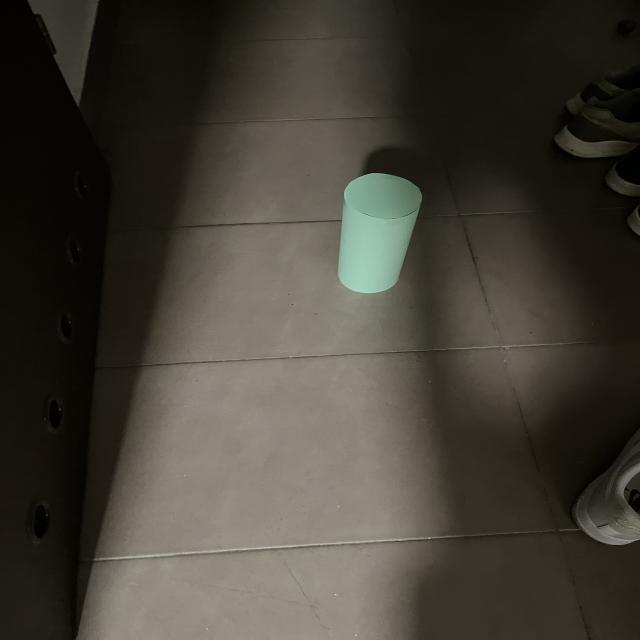meta: (338, 173, 421, 293)
